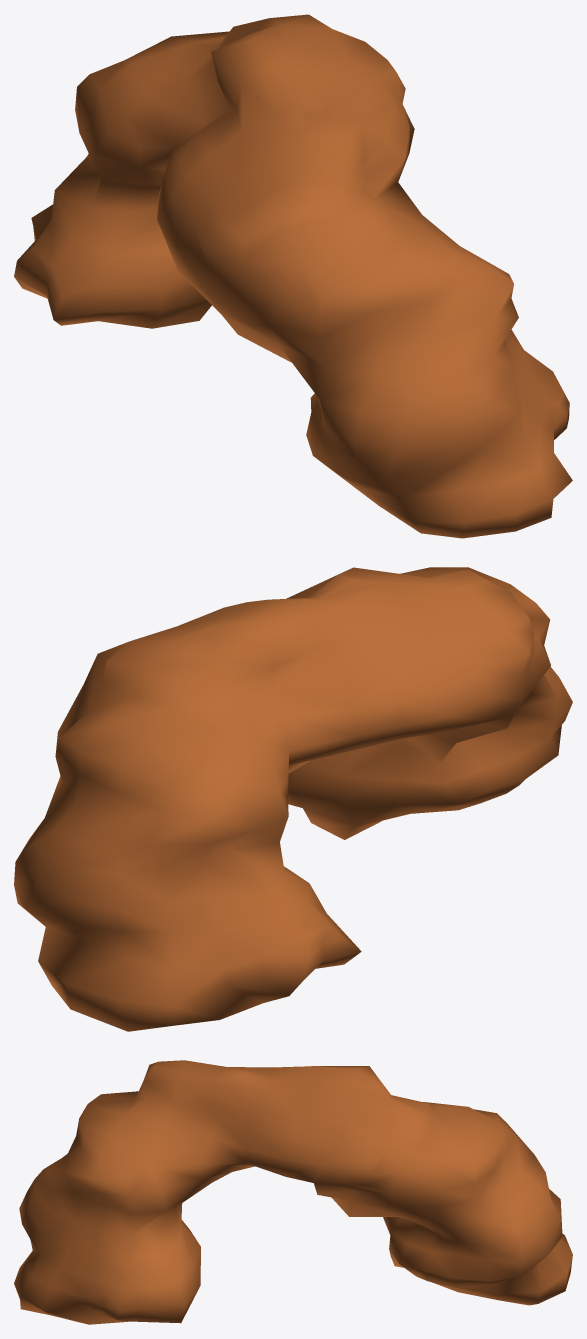
The model's file is Rock03Smooth.glb.
The picture shows the model from 3 angles, top to bottom: view 1: azimuth 30°, elevation 25°; view 2: azimuth 150°, elevation 25°; view 3: azimuth 270°, elevation 25°; orthographic projection. The views are drawn at different scales.
Visible parts, largest first — view 1: Rock 3; view 2: Rock 3; view 3: Rock 3.
Part boxes in pixels (x1=…): Rock 3: x1=14, y1=14, x2=572, y2=538; Rock 3: x1=14, y1=567, x2=572, y2=1031; Rock 3: x1=14, y1=1060, x2=572, y2=1324.
Size of the model in its own units: 5.93 by 5.83 by 12.88.
Materials: 1 (1 with a texture image).
